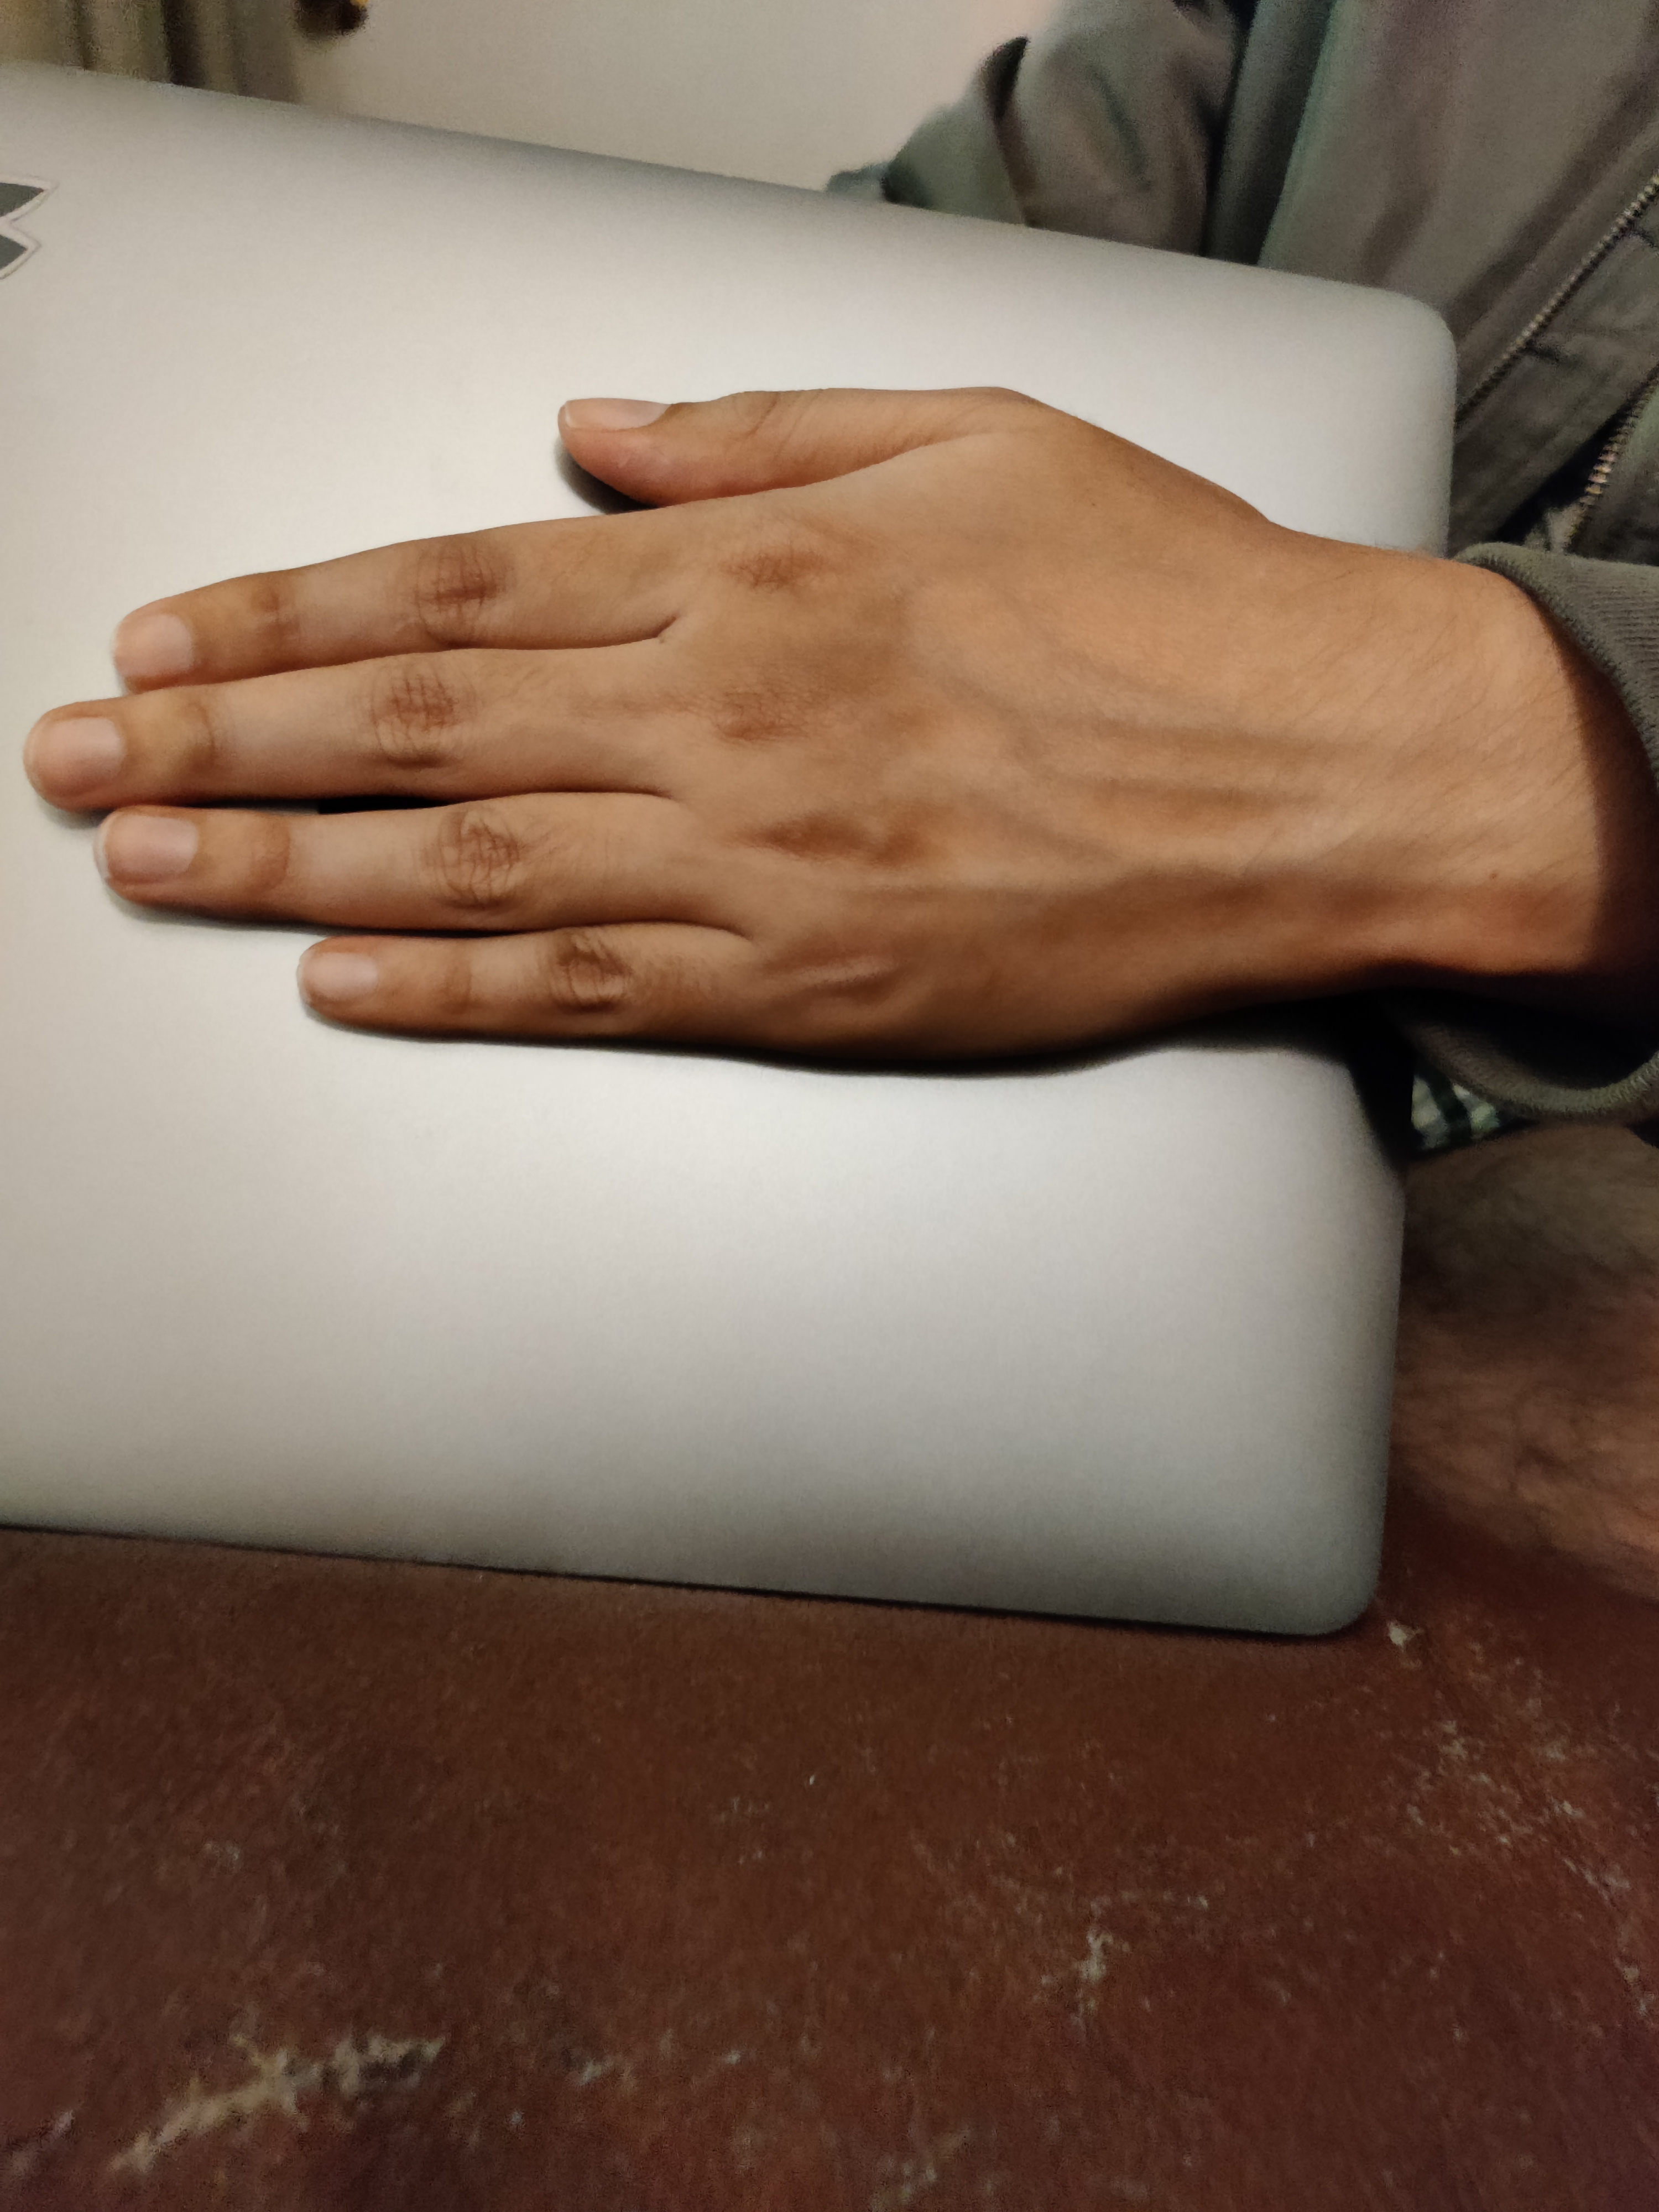right: (12, 294, 1588, 1310)
